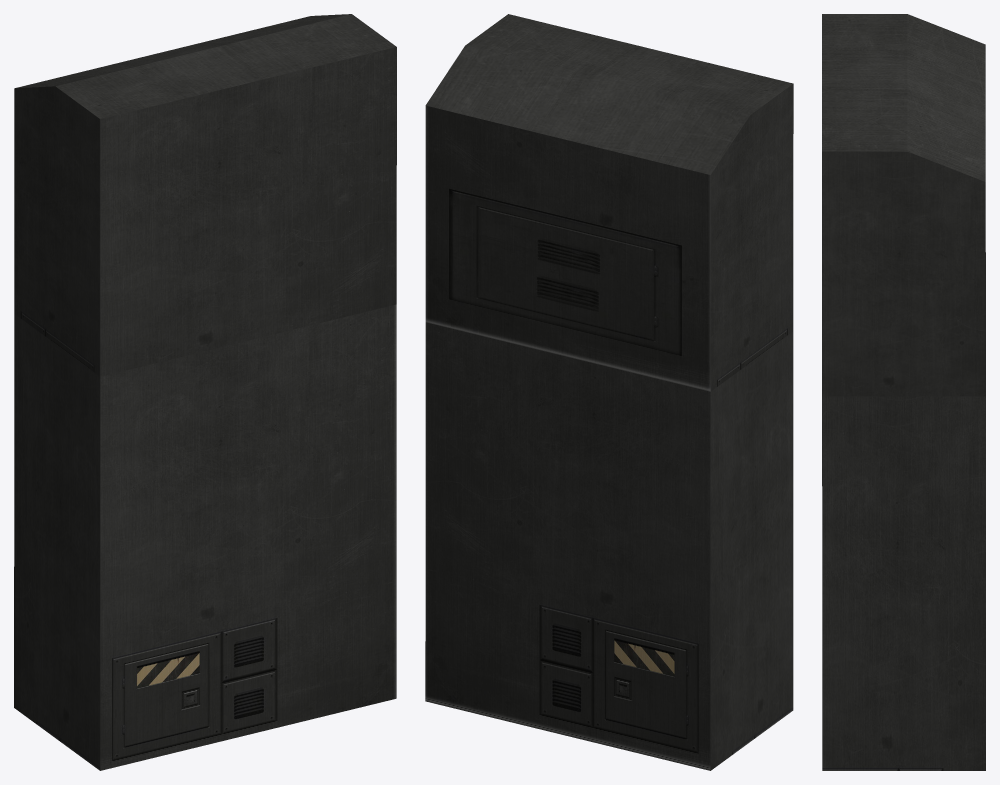
File: Server2.obj
3 views of the same model, side by side, from view 1: azimuth 30°, elevation 25°; view 2: azimuth 150°, elevation 25°; view 3: azimuth 270°, elevation 25° (orthographic). The views are drawn at different scales.
Parts seen in each view (by area): view 1: Server21; view 2: Server21; view 3: Server21.
Boxes of the visible parts, left/top/right/bottom form: Server21: left=14, top=14, right=396, bottom=770; Server21: left=425, top=14, right=793, bottom=770; Server21: left=822, top=14, right=985, bottom=770.
Size of the model in its own units: 3.82 by 8.02 by 1.92.
Materials: 1 (1 with a texture image).
